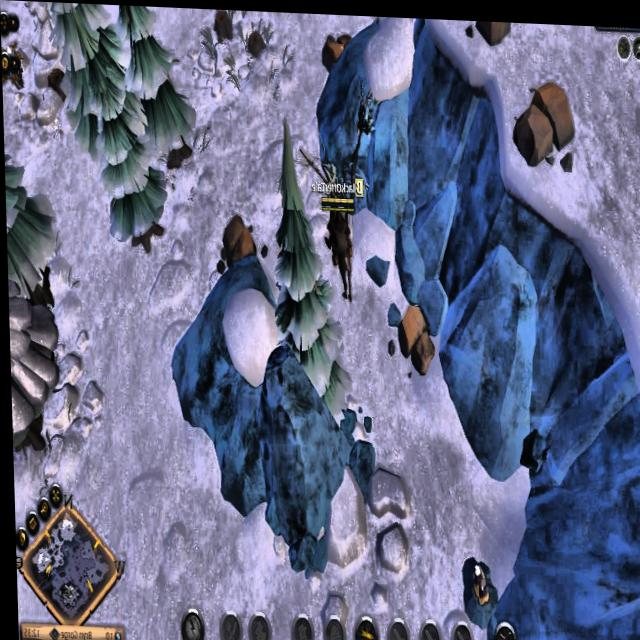limestone: (510, 71, 576, 177), (393, 296, 437, 372), (220, 203, 257, 270), (462, 16, 516, 46), (318, 25, 354, 70)
